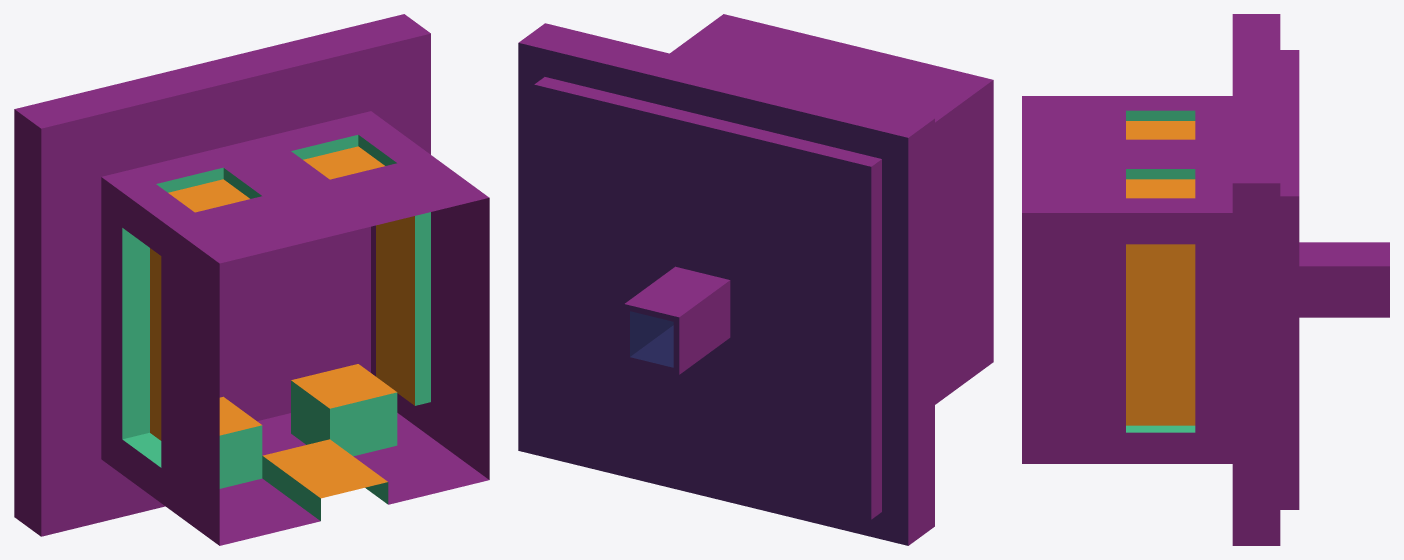
Rendered from muzeum wsi radomskiej 1 Tier 3.fbx.
3 renders of one model, left to right at view 1: azimuth 30°, elevation 25°; view 2: azimuth 150°, elevation 25°; view 3: azimuth 270°, elevation 25°, orthographic. The views are drawn at different scales.
Parts seen in each view (by area): view 1: Cube.002; view 2: Cube.002; view 3: Cube.002.
Boxes of the visible parts, box(x1,y1,x2,y2) form: Cube.002: box(14, 14, 489, 545); Cube.002: box(518, 14, 993, 545); Cube.002: box(1022, 14, 1389, 545).
Size of the model in its own units: 565 by 565 by 519.
